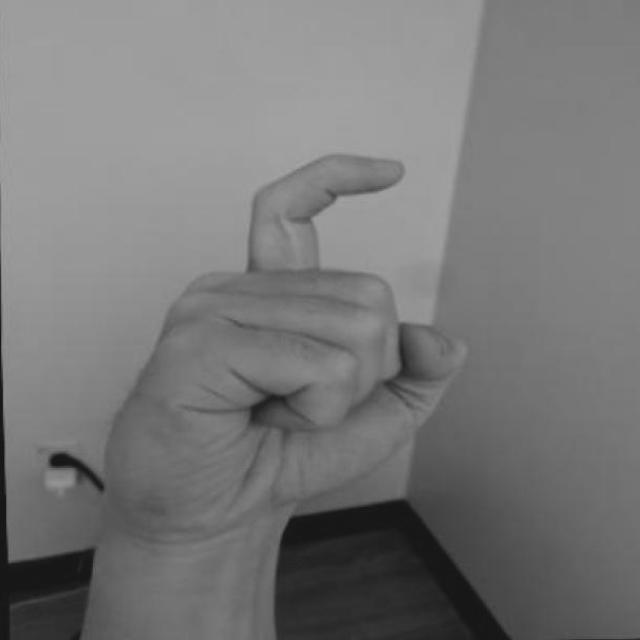X: (100, 154, 471, 572)
